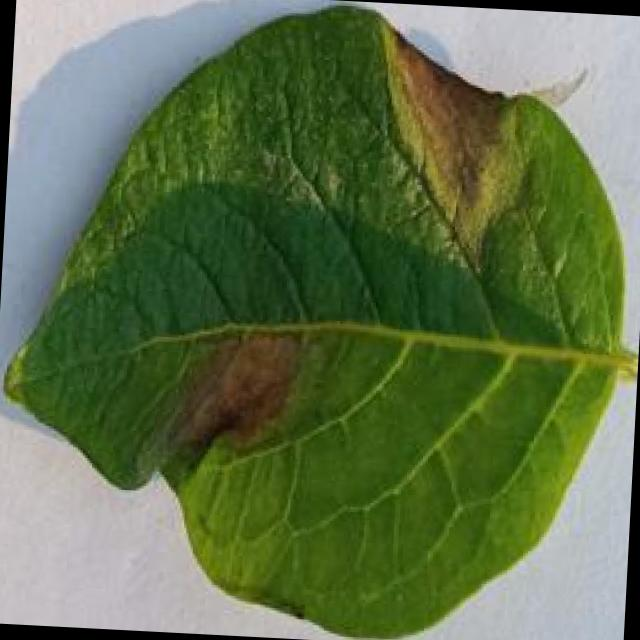Potato_Late_Blight: (9, 3, 619, 628)
